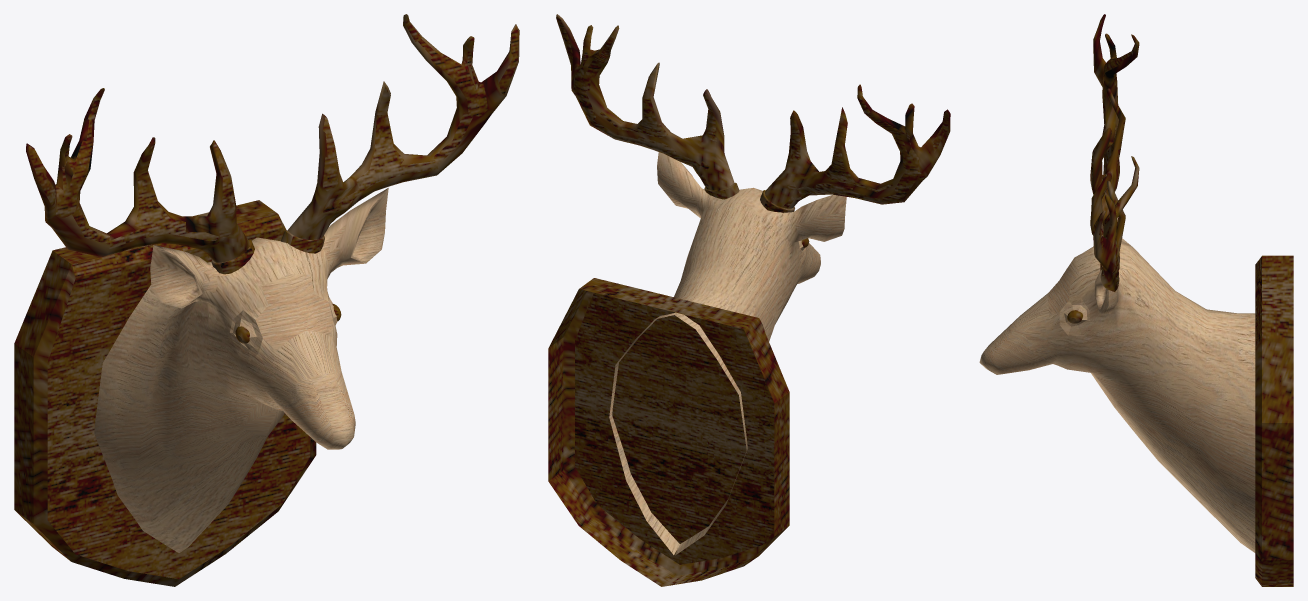
Rendered from Stag head plaque.FBX.
3 views of the same model, side by side, from view 1: azimuth 30°, elevation 25°; view 2: azimuth 150°, elevation 25°; view 3: azimuth 270°, elevation 25° (orthographic). The views are drawn at different scales.
Visible parts, largest first — view 1: Stag head plaque; view 2: Stag head plaque; view 3: Stag head plaque.
Boxes of the visible parts, x1=… form: Stag head plaque: x1=14, y1=14, x2=519, y2=586; Stag head plaque: x1=548, y1=14, x2=950, y2=586; Stag head plaque: x1=979, y1=14, x2=1293, y2=586.
Size of the model in its own units: 114 by 131 by 76.46.
Materials: 2 (2 with a texture image).
